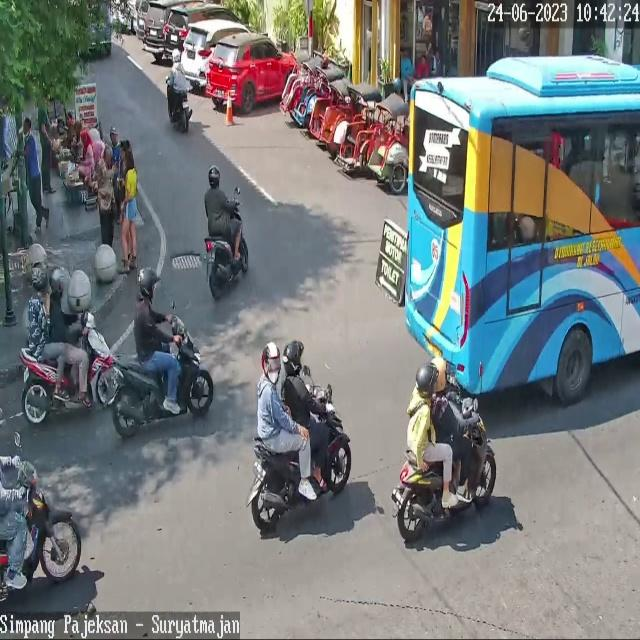bus: (251, 384, 351, 530), (398, 396, 496, 542), (113, 314, 213, 438), (0, 458, 81, 602), (20, 312, 119, 424), (205, 197, 248, 301), (167, 86, 193, 133)
car: (404, 56, 640, 406)
motorcycle: (206, 33, 300, 113), (163, 3, 246, 63), (180, 21, 252, 87), (143, 0, 169, 53)
